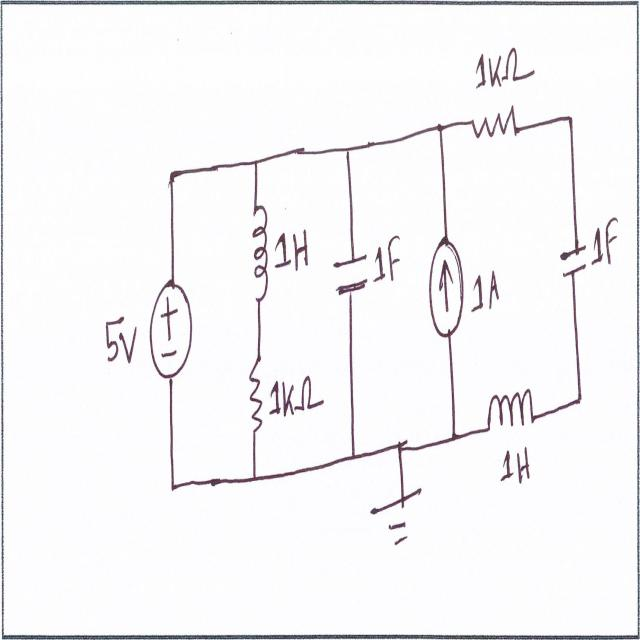capacitor: (328, 249, 373, 306), (556, 243, 590, 292)
current_source: (427, 237, 467, 351)
ground: (365, 476, 428, 552)
inductor: (248, 180, 274, 308), (481, 386, 538, 436)
resistor: (463, 108, 527, 150), (247, 352, 266, 448)
voltage_source: (146, 268, 194, 383)
